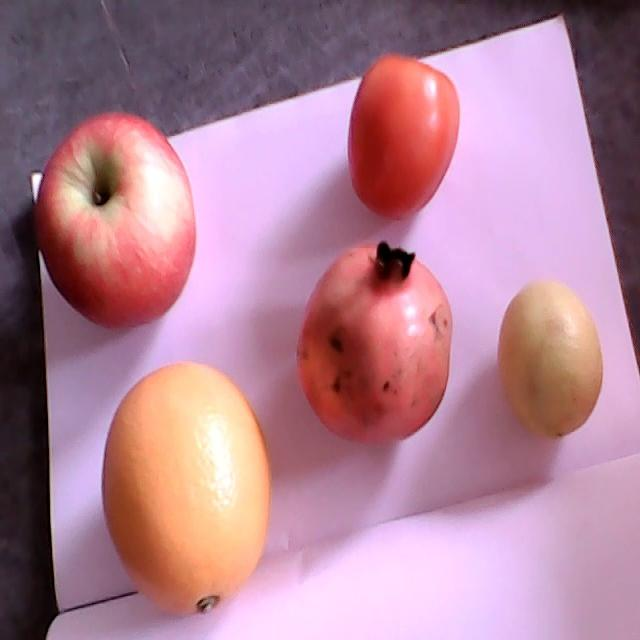apple: (33, 112, 194, 328)
lemon: (497, 281, 603, 438)
orange: (103, 363, 269, 616)
pomegranate: (298, 240, 452, 443)
tomato: (347, 55, 460, 221)
